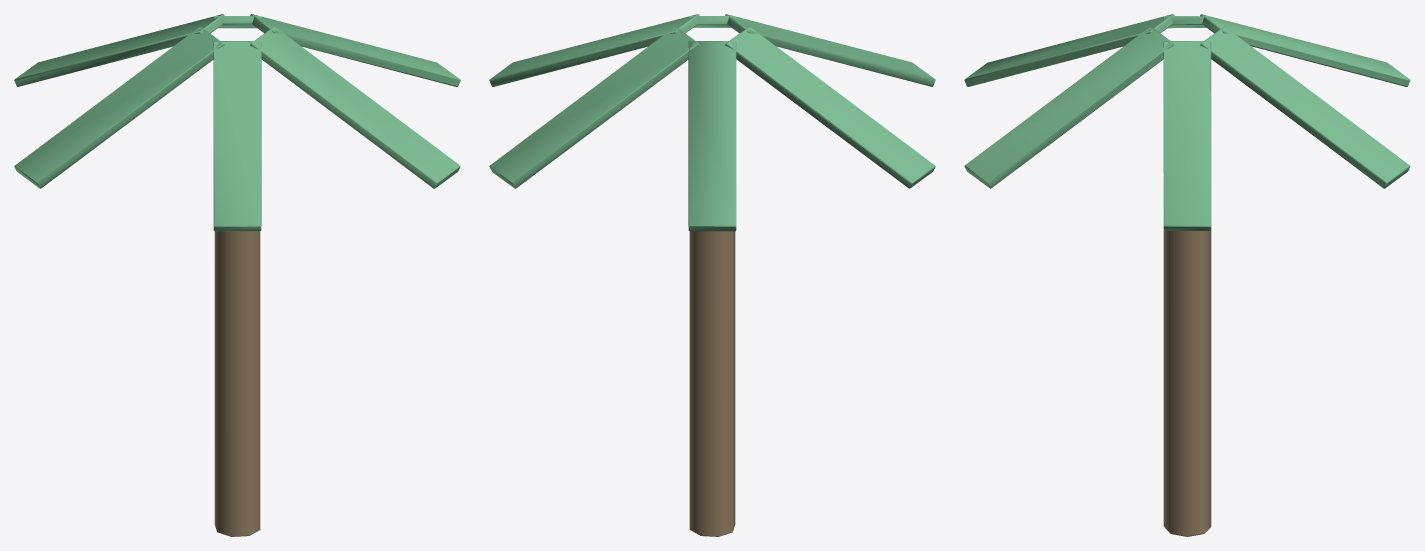
Rendered from SM_Warmerdamm_Palm_LOD1.fbx.
3 views of the same model, side by side, from view 1: azimuth 30°, elevation 25°; view 2: azimuth 150°, elevation 25°; view 3: azimuth 270°, elevation 25° (orthographic).
Parts seen in each view (by area): view 1: SM_Warmerdamm_Palm_LOD1; view 2: SM_Warmerdamm_Palm_LOD1; view 3: SM_Warmerdamm_Palm_LOD1.
Boxes of the visible parts, x1,y1,x2,y2 form: SM_Warmerdamm_Palm_LOD1: [14, 14, 460, 536]; SM_Warmerdamm_Palm_LOD1: [489, 14, 935, 536]; SM_Warmerdamm_Palm_LOD1: [964, 14, 1410, 536].
Bounding box in the file's own units: 3.26 × 3.67 × 2.98.
